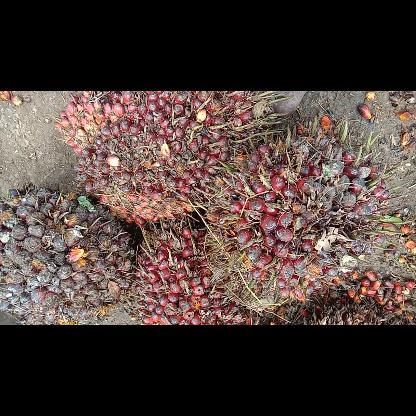Kurang masak: (0, 180, 137, 325)
TBS masak: (200, 120, 392, 302), (52, 91, 282, 227), (128, 220, 260, 324)
